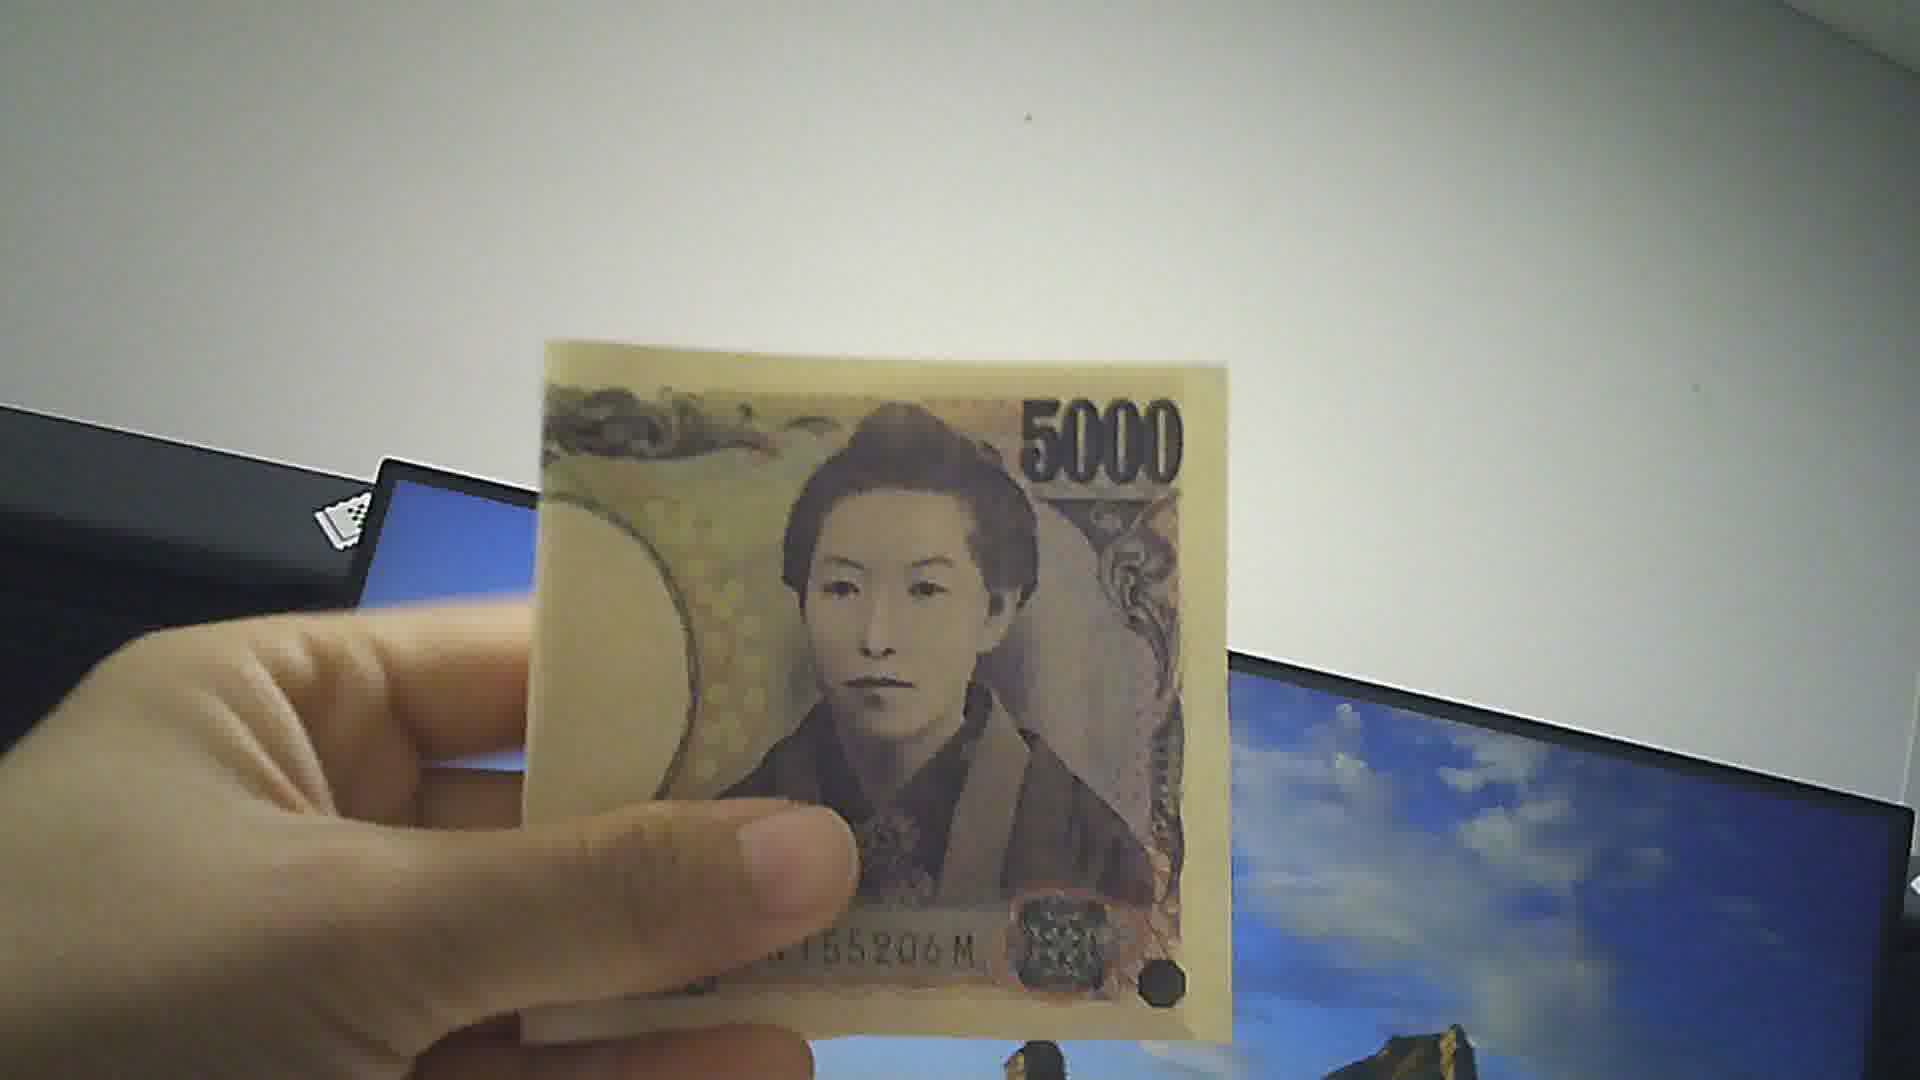5,000 Yen: (506, 309, 1251, 1042)
